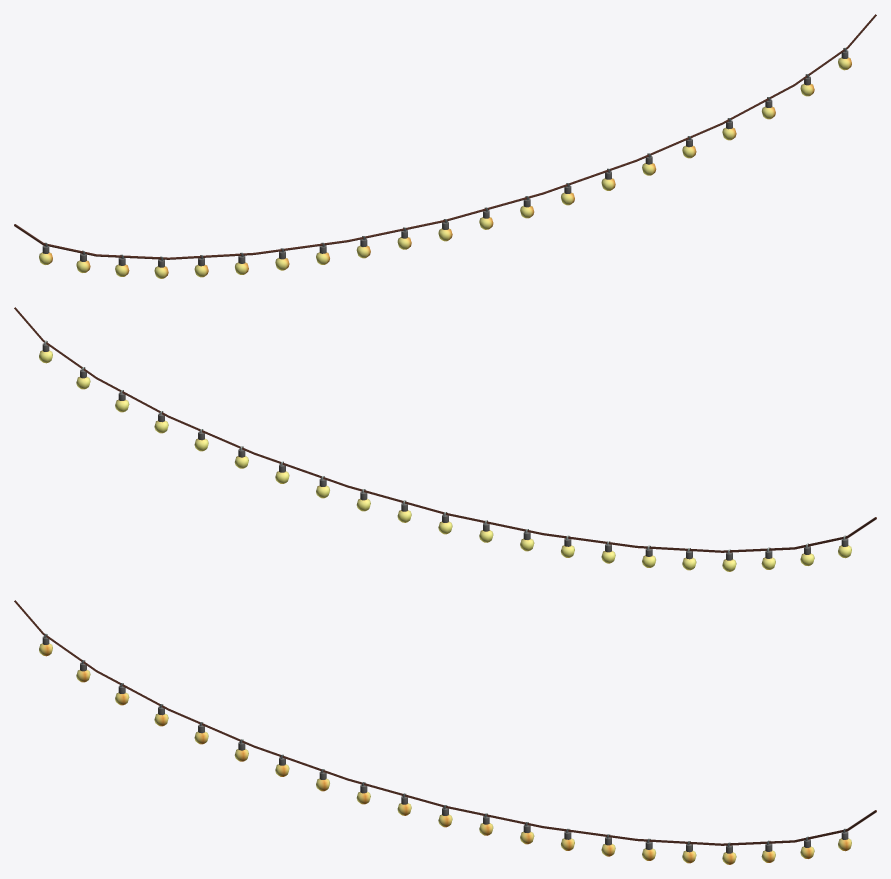
Rendered from FSS_WiretLight.FBX.
3 renders of one model, top to bottom at view 1: azimuth 30°, elevation 25°; view 2: azimuth 150°, elevation 25°; view 3: azimuth 330°, elevation 25°, orthographic.
Parts seen in each view (by area): view 1: FSS_WiretLight; view 2: FSS_WiretLight; view 3: FSS_WiretLight.
Boxes of the visible parts, bbox=[...] form: FSS_WiretLight: bbox=[14, 14, 876, 278]; FSS_WiretLight: bbox=[14, 307, 876, 571]; FSS_WiretLight: bbox=[14, 600, 876, 864].
Size of the model in its own units: 1064 by 15.87 by 143.
